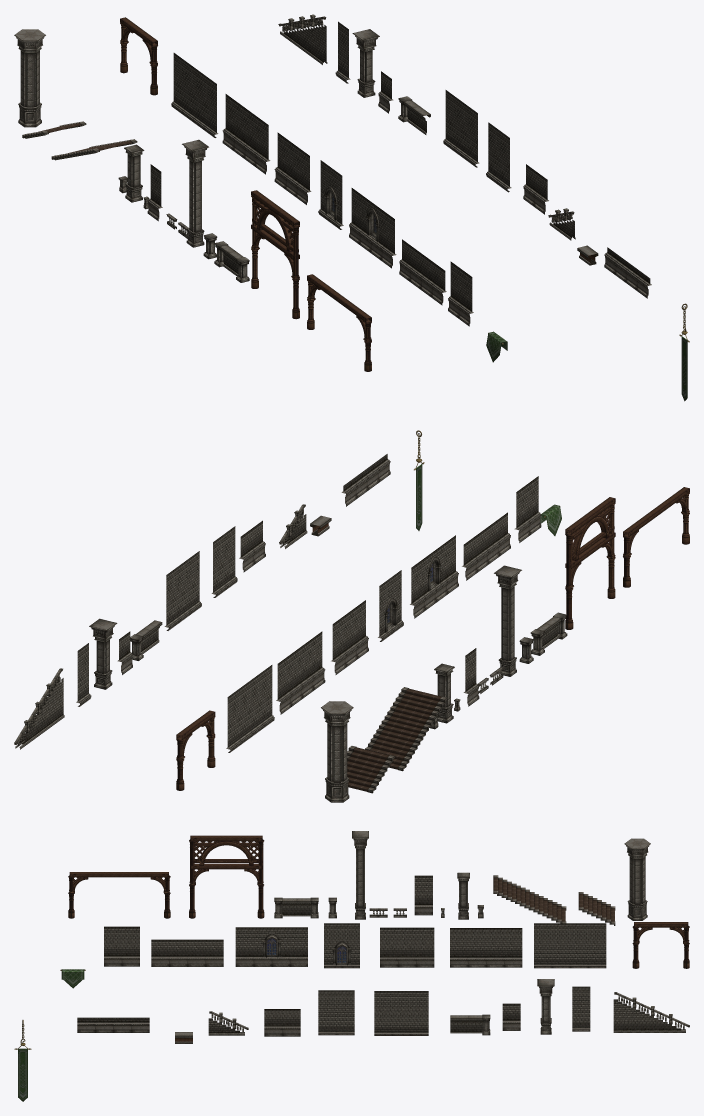
The model's file is EnvMdrMD_DepartmentStore_A_Indoor_Arch_A.FBX.
3 renders of one model, top to bottom at view 1: azimuth 30°, elevation 25°; view 2: azimuth 150°, elevation 25°; view 3: azimuth 270°, elevation 25°, orthographic. The views are drawn at different scales.
Parts seen in each view (by area): view 1: EnvMdrMD_DepartmentStore_A_Indoor_Arch_A, EnvMdrMD_DepartmentStore_A_Indoor_Wall_2F_800W_Loop_A, EnvMdrMD_DepartmentStore_A_Indoor_Wall_B_800W, EnvMdrMD_DepartmentStore_A_Indoor_Wall_A_800W, EnvMdrMD_DepartmentStore_A_Indoor_Pillar_B, EnvMdrMD_DepartmentStore_A_Indoor_Wall_2F_600W_Loop_A, EnvMdrMD_DepartmentStore_A_Indoor_Wall_B_600W, EnvMdrMD_DepartmentStore_A_Indoor_Wall_2F_800W, EnvMdrMD_DepartmentStore_A_Indoor_Pillar_A_2F, EnvMdrMD_DepartmentStore_A_Indoor_Stairs_Handrail_16S, EnvMdrMD_DepartmentStore_A_Indoor_Arch_C, EnvMdrMD_DepartmentStore_A_Indoor_Wall_2F_400W_Loop_B (+11 smaller); view 2: EnvMdrMD_DepartmentStore_A_Indoor_Stairs_400W16S_Cpt, EnvMdrMD_DepartmentStore_A_Indoor_Arch_A, EnvMdrMD_DepartmentStore_A_Indoor_Wall_2F_800W_Loop_A, EnvMdrMD_DepartmentStore_A_Indoor_Wall_B_800W, EnvMdrMD_DepartmentStore_A_Indoor_Wall_A_800W, EnvMdrMD_DepartmentStore_A_Indoor_Pillar_B, EnvMdrMD_DepartmentStore_A_Indoor_Wall_2F_600W_Loop_A, EnvMdrMD_DepartmentStore_A_Indoor_Wall_B_600W, EnvMdrMD_DepartmentStore_A_Indoor_Wall_2F_800W, EnvMdrMD_DepartmentStore_A_Indoor_Pillar_A_2F, EnvMdrMD_DepartmentStore_A_Indoor_Stairs_Handrail_16S, EnvMdrMD_DepartmentStore_A_Indoor_Stairs_400W8S_Cpt (+15 smaller); view 3: EnvMdrMD_DepartmentStore_A_Indoor_Wall_2F_800W_Loop_A, EnvMdrMD_DepartmentStore_A_Indoor_Wall_A_800W, EnvMdrMD_DepartmentStore_A_Indoor_Wall_B_800W, EnvMdrMD_DepartmentStore_A_Indoor_Arch_A, EnvMdrMD_DepartmentStore_A_Indoor_Wall_2F_600W_Loop_A, EnvMdrMD_DepartmentStore_A_Indoor_Wall_B_600W, EnvMdrMD_DepartmentStore_A_Indoor_Wall_2F_800W, EnvMdrMD_DepartmentStore_A_Indoor_Stairs_Handrail_16S, EnvMdrMD_DepartmentStore_A_Indoor_Wall_2F_400W_Loop_A, EnvMdrMD_DepartmentStore_A_Indoor_Wall_2F_400W_Loop_B, EnvMdrMD_DepartmentStore_A_Indoor_Pillar_B, EnvMdrMD_DepartmentStore_A_Indoor_Wall_B_400W (+16 smaller).
Boxes of the visible parts, x1,y1,x2,y2 form: EnvMdrMD_DepartmentStore_A_Indoor_Arch_A: (251, 190, 299, 319); EnvMdrMD_DepartmentStore_A_Indoor_Wall_2F_800W_Loop_A: (171, 53, 218, 137); EnvMdrMD_DepartmentStore_A_Indoor_Wall_B_800W: (222, 94, 270, 174); EnvMdrMD_DepartmentStore_A_Indoor_Wall_A_800W: (349, 188, 396, 268); EnvMdrMD_DepartmentStore_A_Indoor_Pillar_B: (14, 29, 45, 127); EnvMdrMD_DepartmentStore_A_Indoor_Wall_2F_600W_Loop_A: (443, 90, 479, 167); EnvMdrMD_DepartmentStore_A_Indoor_Wall_B_600W: (274, 132, 311, 204); EnvMdrMD_DepartmentStore_A_Indoor_Wall_2F_800W: (399, 239, 446, 305); EnvMdrMD_DepartmentStore_A_Indoor_Pillar_A_2F: (182, 139, 208, 247); EnvMdrMD_DepartmentStore_A_Indoor_Stairs_Handrail_16S: (278, 14, 327, 64); EnvMdrMD_DepartmentStore_A_Indoor_Arch_C: (307, 274, 371, 371); EnvMdrMD_DepartmentStore_A_Indoor_Wall_2F_400W_Loop_B: (318, 160, 343, 229); EnvMdrMD_DepartmentStore_A_Indoor_Stairs_400W16S_Cpt: (365, 687, 447, 771); EnvMdrMD_DepartmentStore_A_Indoor_Arch_A: (565, 497, 615, 629); EnvMdrMD_DepartmentStore_A_Indoor_Wall_2F_800W_Loop_A: (226, 665, 274, 752); EnvMdrMD_DepartmentStore_A_Indoor_Wall_B_800W: (276, 631, 325, 714); EnvMdrMD_DepartmentStore_A_Indoor_Wall_A_800W: (410, 535, 458, 618); EnvMdrMD_DepartmentStore_A_Indoor_Pillar_B: (321, 701, 353, 802); EnvMdrMD_DepartmentStore_A_Indoor_Wall_2F_600W_Loop_A: (164, 551, 201, 630); EnvMdrMD_DepartmentStore_A_Indoor_Wall_B_600W: (331, 600, 368, 674); EnvMdrMD_DepartmentStore_A_Indoor_Wall_2F_800W: (462, 512, 510, 580); EnvMdrMD_DepartmentStore_A_Indoor_Pillar_A_2F: (494, 565, 521, 676); EnvMdrMD_DepartmentStore_A_Indoor_Stairs_Handrail_16S: (14, 668, 64, 749); EnvMdrMD_DepartmentStore_A_Indoor_Stairs_400W8S_Cpt: (347, 746, 395, 793); EnvMdrMD_DepartmentStore_A_Indoor_Wall_2F_800W_Loop_A: (534, 923, 606, 968); EnvMdrMD_DepartmentStore_A_Indoor_Wall_A_800W: (235, 927, 307, 966); EnvMdrMD_DepartmentStore_A_Indoor_Wall_B_800W: (450, 928, 522, 967); EnvMdrMD_DepartmentStore_A_Indoor_Arch_A: (189, 835, 264, 918); EnvMdrMD_DepartmentStore_A_Indoor_Wall_2F_600W_Loop_A: (374, 991, 428, 1035); EnvMdrMD_DepartmentStore_A_Indoor_Wall_B_600W: (380, 927, 434, 967); EnvMdrMD_DepartmentStore_A_Indoor_Wall_2F_800W: (151, 939, 223, 966); EnvMdrMD_DepartmentStore_A_Indoor_Stairs_Handrail_16S: (613, 992, 689, 1032); EnvMdrMD_DepartmentStore_A_Indoor_Wall_2F_400W_Loop_A: (318, 990, 354, 1035); EnvMdrMD_DepartmentStore_A_Indoor_Wall_2F_400W_Loop_B: (324, 923, 359, 968); EnvMdrMD_DepartmentStore_A_Indoor_Pillar_B: (624, 838, 650, 920); EnvMdrMD_DepartmentStore_A_Indoor_Wall_B_400W: (104, 926, 139, 966).
Bounding box in the file's own units: 3398 × 1830 × 7476.
